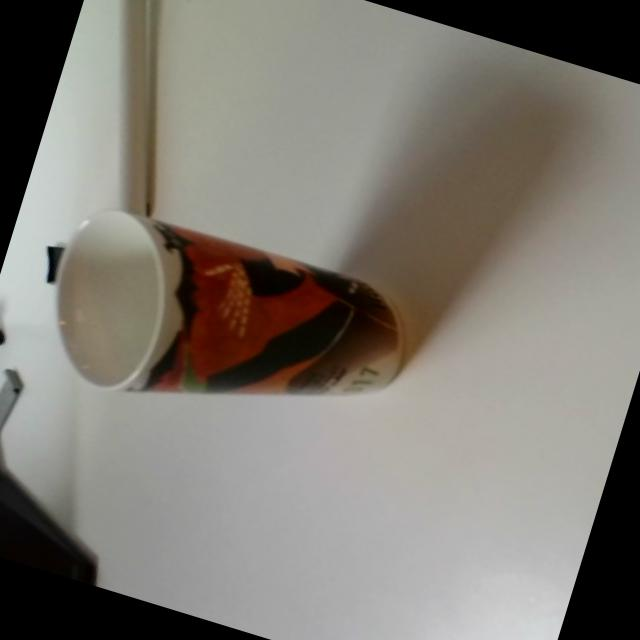Halloween cup: (17, 186, 427, 473)
